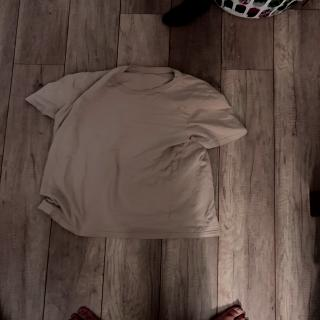Yellow T-Shirt: (22, 63, 250, 240)
